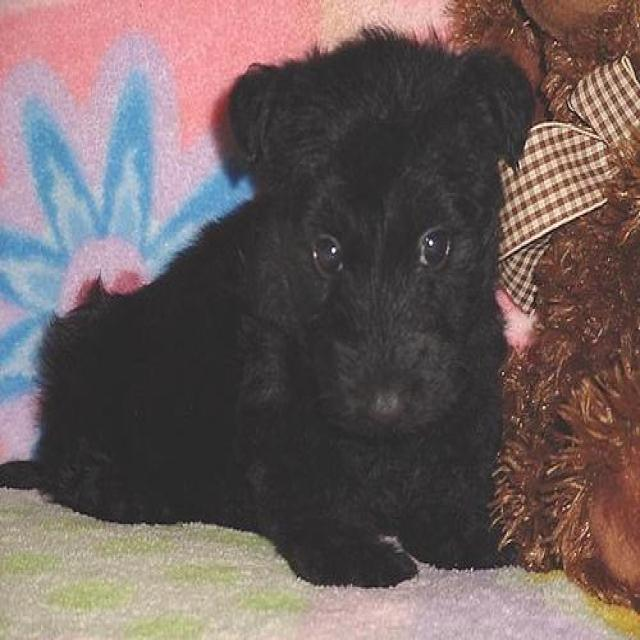dog: (17, 19, 587, 604)
